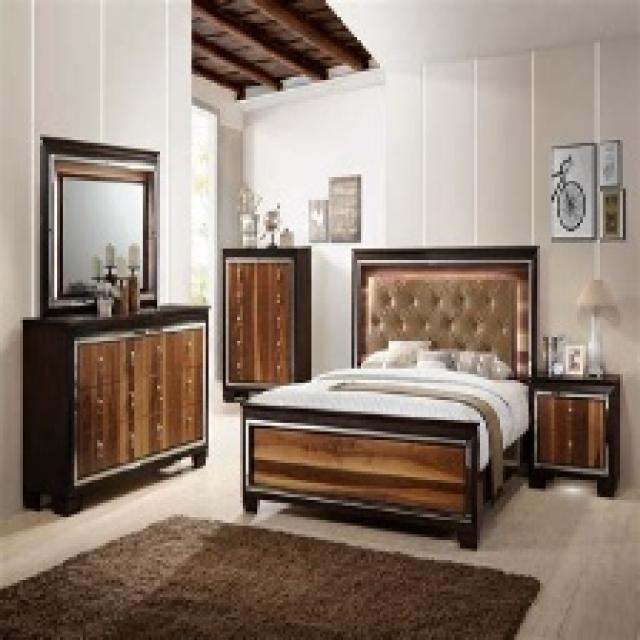Bed: (237, 243, 537, 548)
